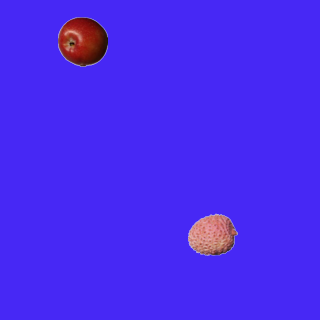Apple Braeburn: (57, 16, 107, 66)
Lychee: (187, 209, 237, 259)
